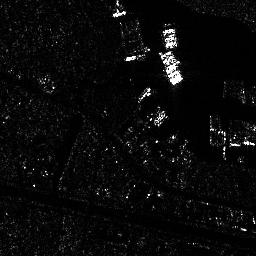ship: (135, 85, 153, 104)
